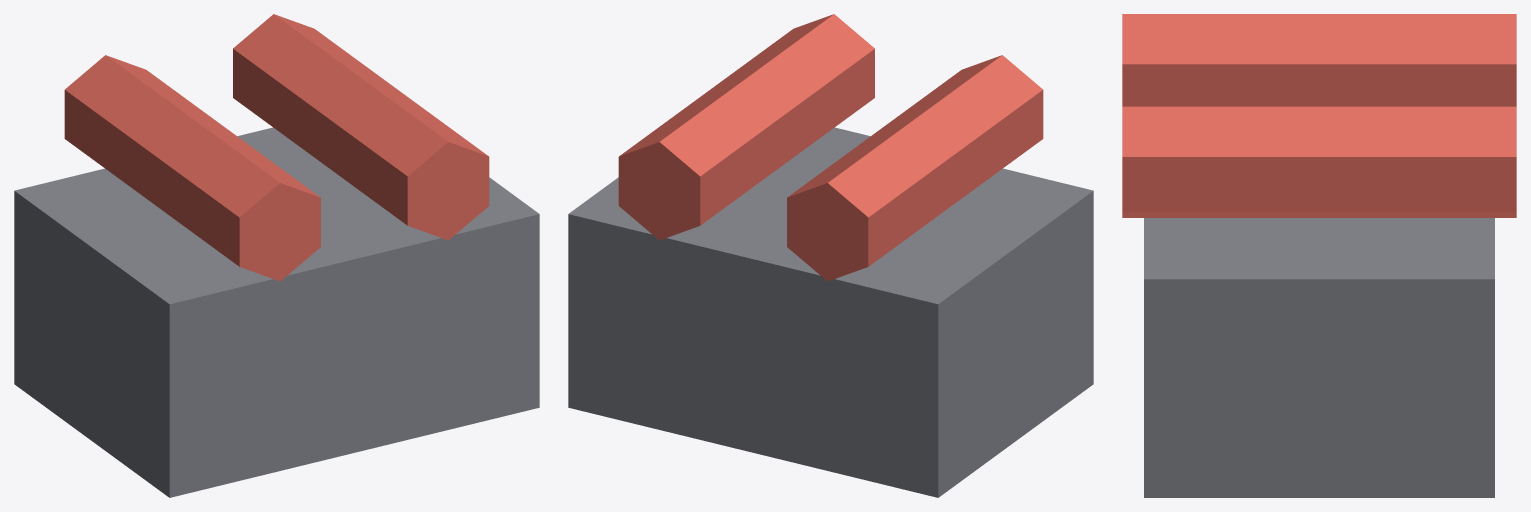
Rendered from wasteland_pickup_rocket.glb.
The picture shows the model from 3 angles, left to right: view 1: azimuth 30°, elevation 25°; view 2: azimuth 150°, elevation 25°; view 3: azimuth 270°, elevation 25°; orthographic projection. The views are drawn at different scales.
Visible parts, largest first — view 1: Pickup_Rocket; view 2: Pickup_Rocket; view 3: Pickup_Rocket.
Part boxes in pixels (left/top/right/bottom): Pickup_Rocket: left=14, top=14, right=539, bottom=497; Pickup_Rocket: left=568, top=14, right=1093, bottom=497; Pickup_Rocket: left=1122, top=14, right=1516, bottom=497.
Size of the model in its own units: 1.1 by 0.845 by 0.9.
